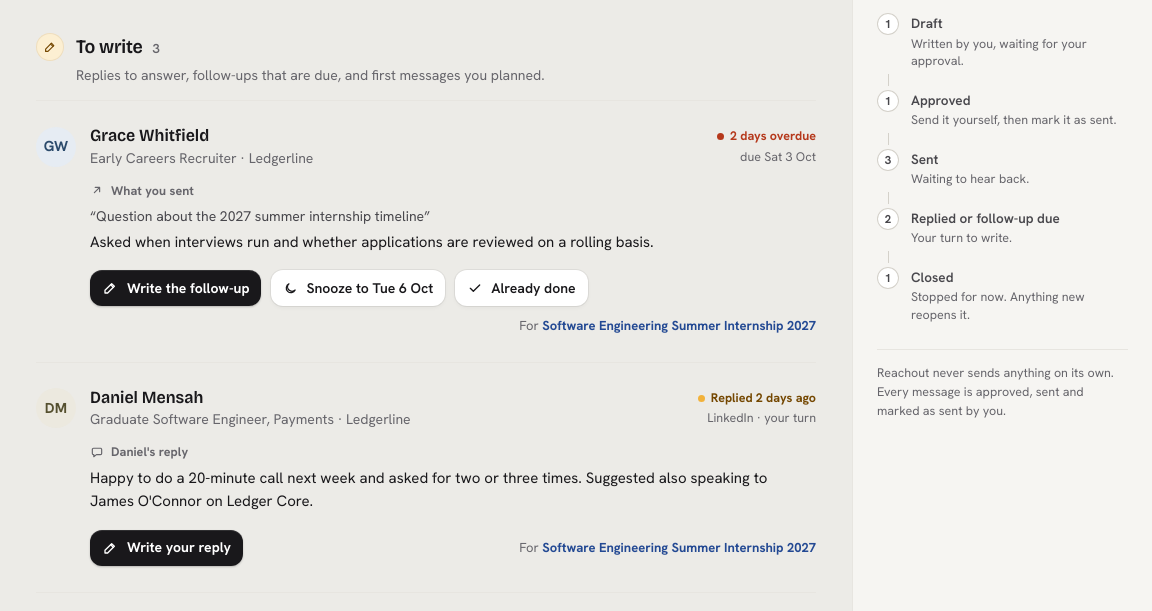
Scenario: production Outreach — desktop › each track shows who, what it responds to, and Today's verbs in place
This screenshot has width=1152, height=611.
Check: the text "Early Careers Recruiter · Ledgerline" is shown, box top-left (90, 149), bottom-right (313, 167)
Check: the text "What you sent" is shown, box top-left (90, 182), bottom-right (194, 199)
Click the button "Write your reply" at (167, 548), box top-left (90, 530), bottom-right (243, 566)
(page scrolled)
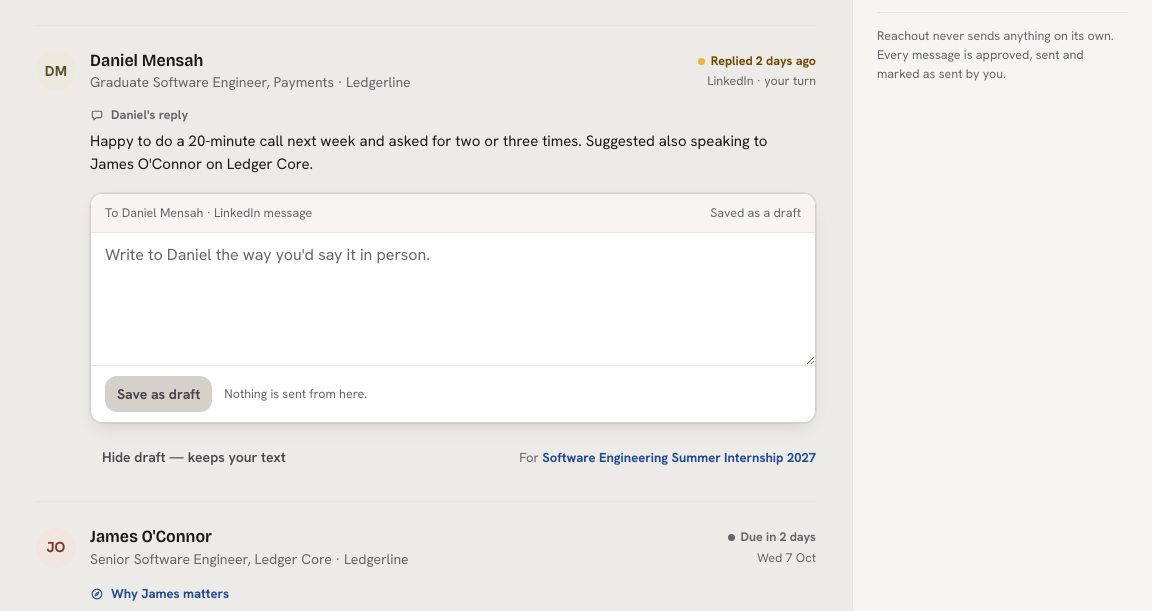
Check: the text box named "Message to Daniel Mensah" is shown, box top-left (91, 233), bottom-right (815, 365)
